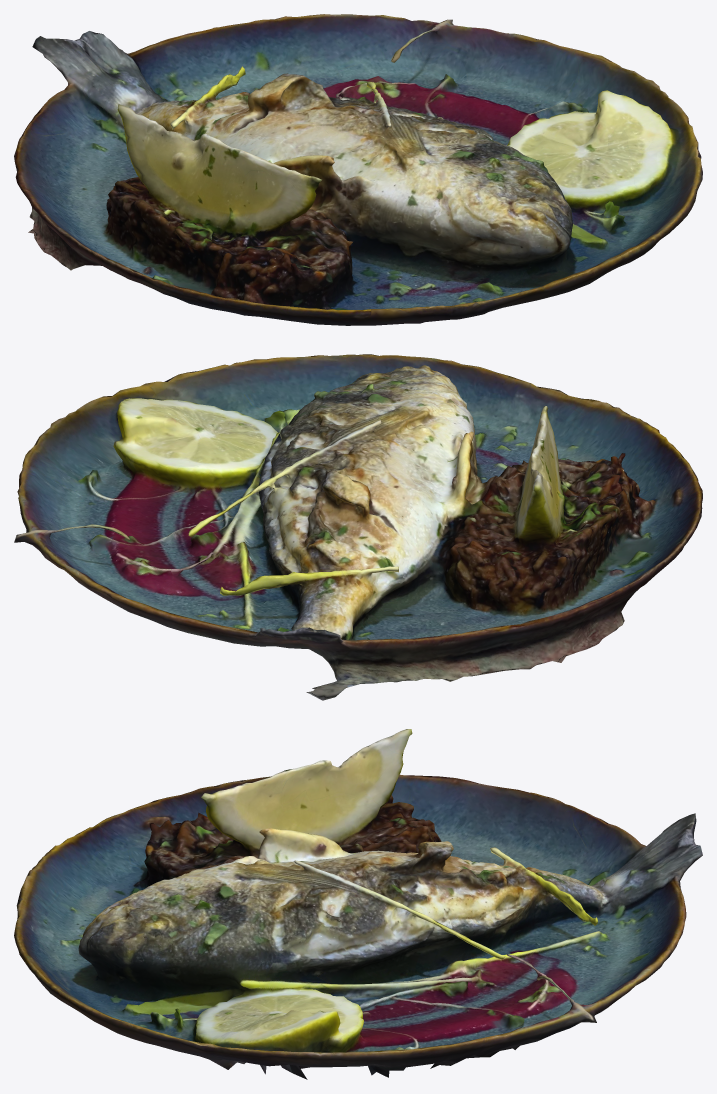
The model's file is dorade.glb.
The picture shows the model from 3 angles, top to bottom: view 1: azimuth 30°, elevation 25°; view 2: azimuth 150°, elevation 25°; view 3: azimuth 270°, elevation 25°; orthographic projection.
Visible parts, largest first — view 1: /ObjectCapture/Geometry/Mesh; view 2: /ObjectCapture/Geometry/Mesh; view 3: /ObjectCapture/Geometry/Mesh.
Part boxes in pixels (left/top/right/bottom): /ObjectCapture/Geometry/Mesh: left=14, top=14, right=702, bottom=325; /ObjectCapture/Geometry/Mesh: left=14, top=354, right=702, bottom=700; /ObjectCapture/Geometry/Mesh: left=14, top=729, right=702, bottom=1079.
Size of the model in its own units: 0.2721 by 0.0602 by 0.2764.
1 material, 1 textured.
